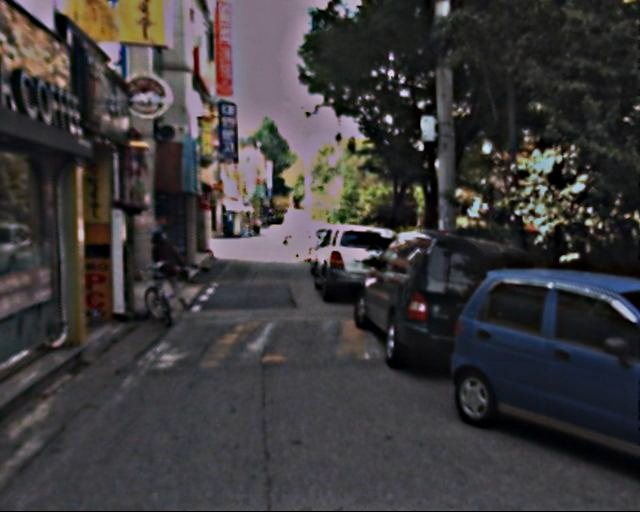person: (144, 228, 181, 306)
